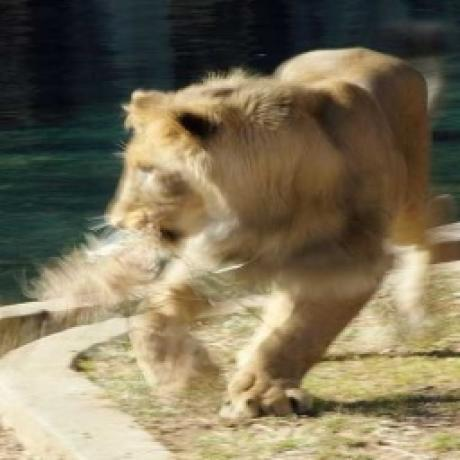Lion: (104, 49, 434, 422)
